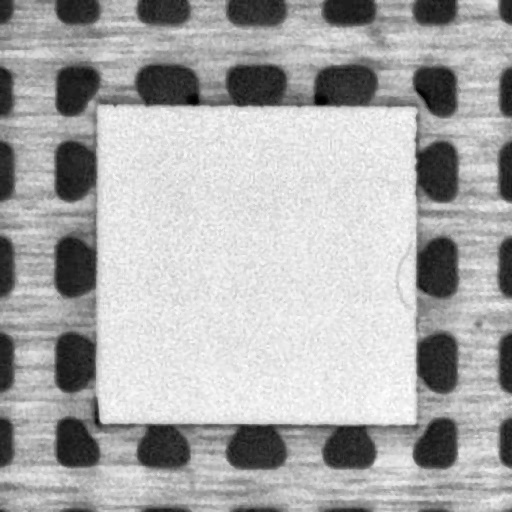DIE_CRACK: (393, 226, 414, 316)
